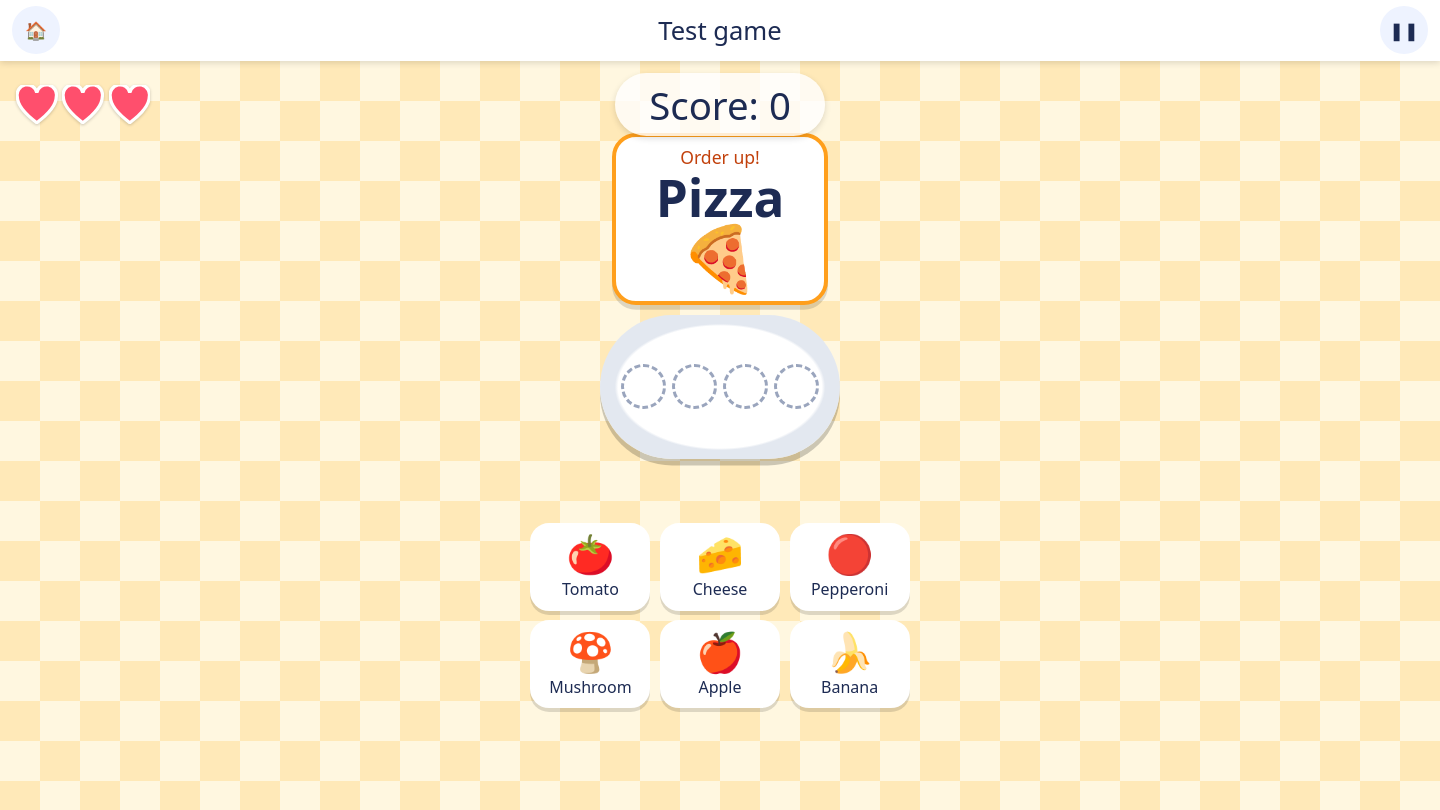
Test case: KitchenScreen › puts a right ingredient into the dish
This screenshot has width=1440, height=810.
Click the button "🍅 Tomato".
click(590, 567)  # box [530,523,650,611]
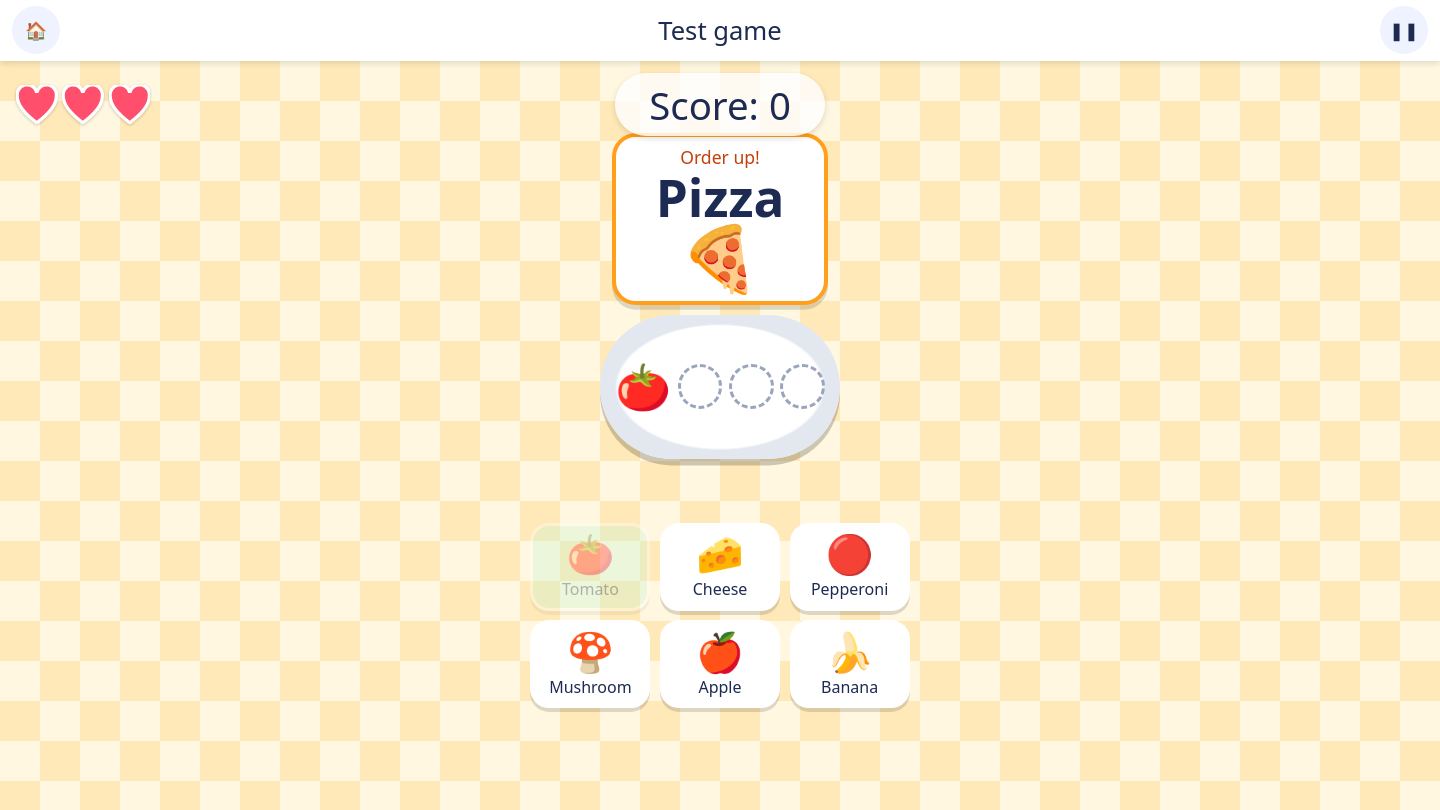
Expected: the picture named "3 lives left" is shown, [16,85,150,124]
Result: the button "🍅 Tomato" is disabled at [530,523,650,611]
Result: the picture named "In the dish: Tomato" is shown at [615,364,671,409]
